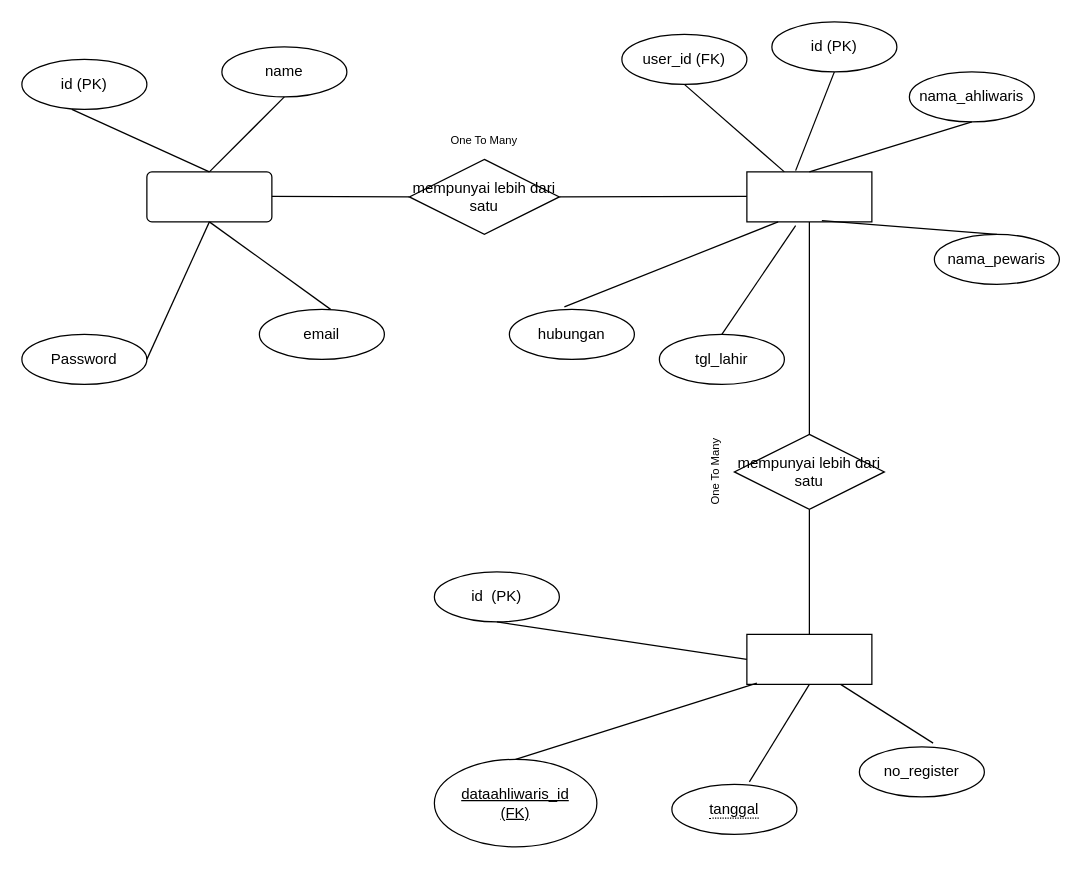
Some shapes in this 1081 by 869 pixel diagram are drawn without their labels. Each missing label, with the box of its shape:
ahliwaris: (746, 633, 872, 684)
dataahliwaris: (746, 171, 872, 222)
user: (146, 171, 272, 222)
